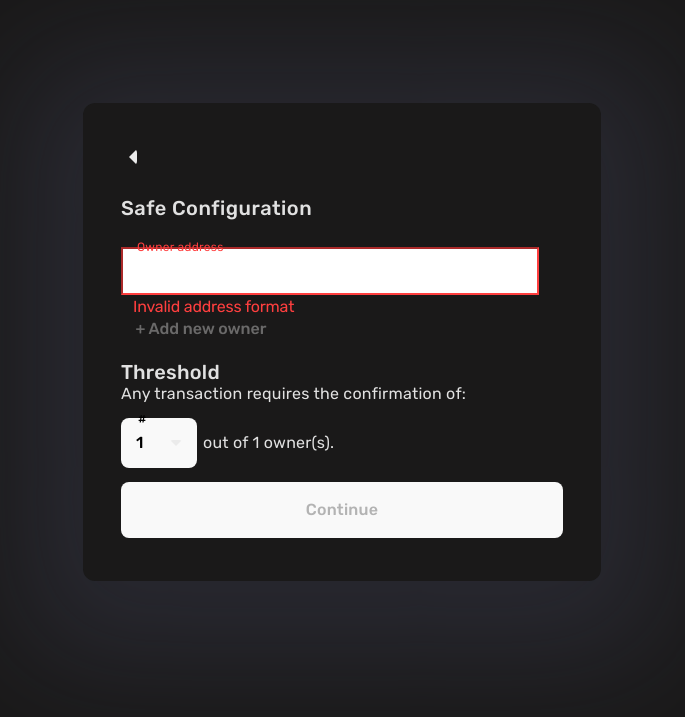
Scenario: SafeSettingsStep › renders SafeSettingsStep component with initial state and props
Expected: the text "Safe Configuration" is shown, [121,193,312,223]
Expected: the text "Owner address" is shown, [133,241,228,253]
# Simulate an invalid address
Type "newOwner" into the field with test id "Owner address" at (330, 271), box [121,247,539,295]
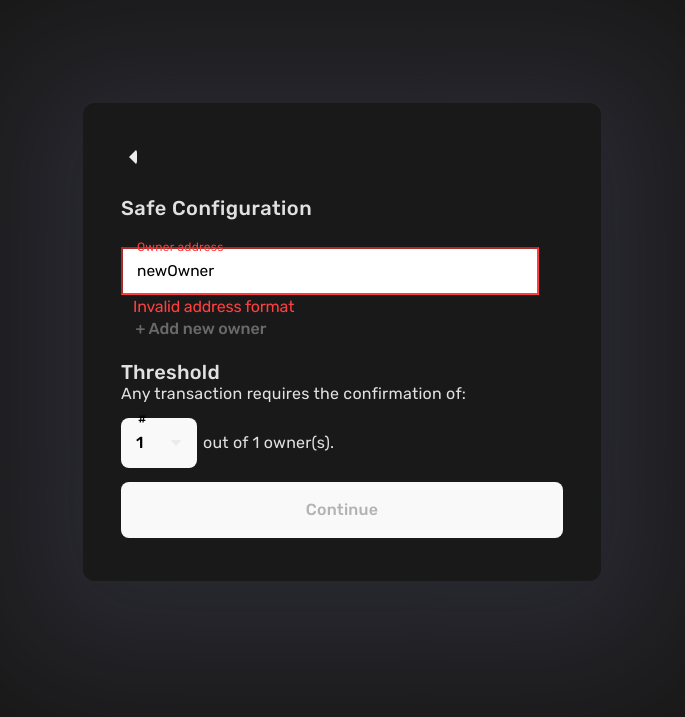
Expected: the button with test id "add-owner-button" is disabled, [121,319,281,339]
Expected: the button "Continue" is disabled, [121,482,563,538]
# Simulate a valid address
Replace the text in the field with test id "Owner address" with "0xC02aaA39b223FE8D0A0e5C4F27eAD9083C756Cc2" at (330, 271), box [121,247,539,295]
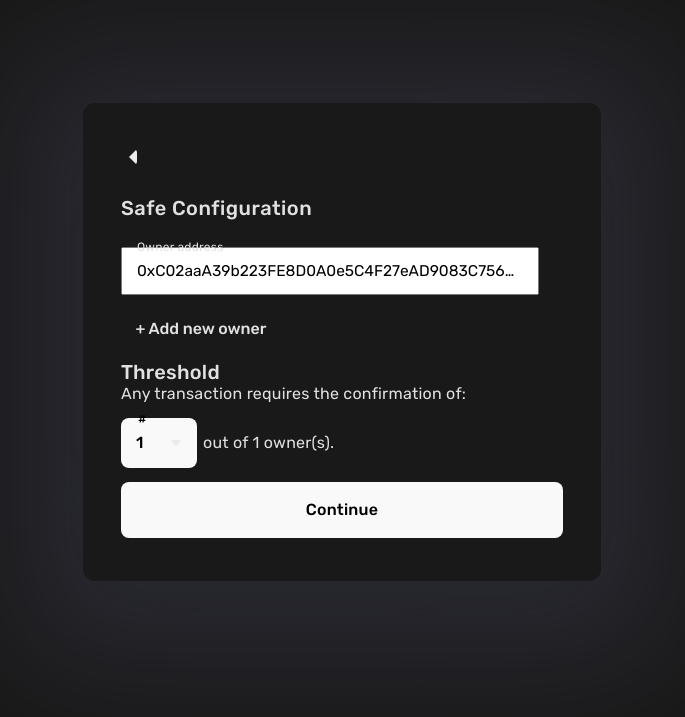
Expected: the button with test id "add-owner-button" is enabled
Expected: the button "Continue" is enabled, [121,482,563,538]
# Add a new owner
Click the button with test id "add-owner-button" at (201, 329), box [121,319,281,339]
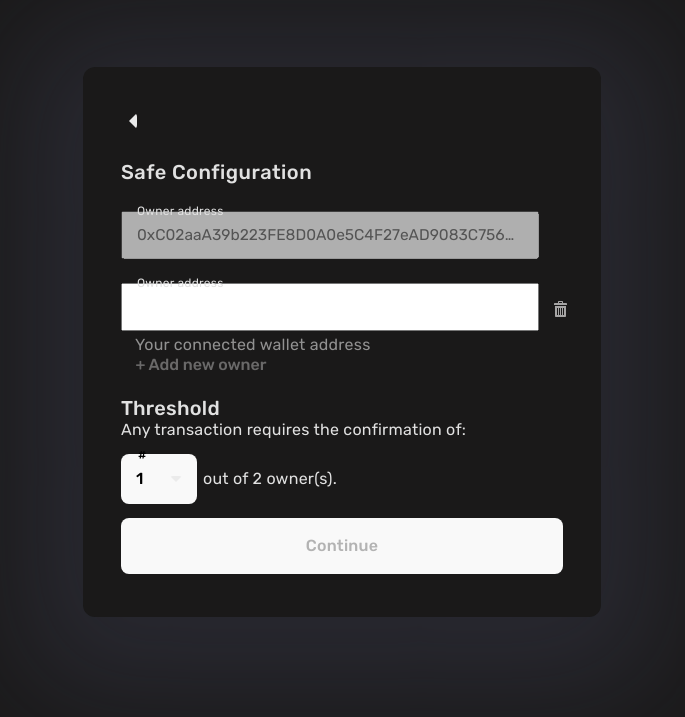
Expected: the button with test id "add-owner-button" is disabled, [121,355,281,375]
Expected: the button "Continue" is disabled, [121,518,563,574]
